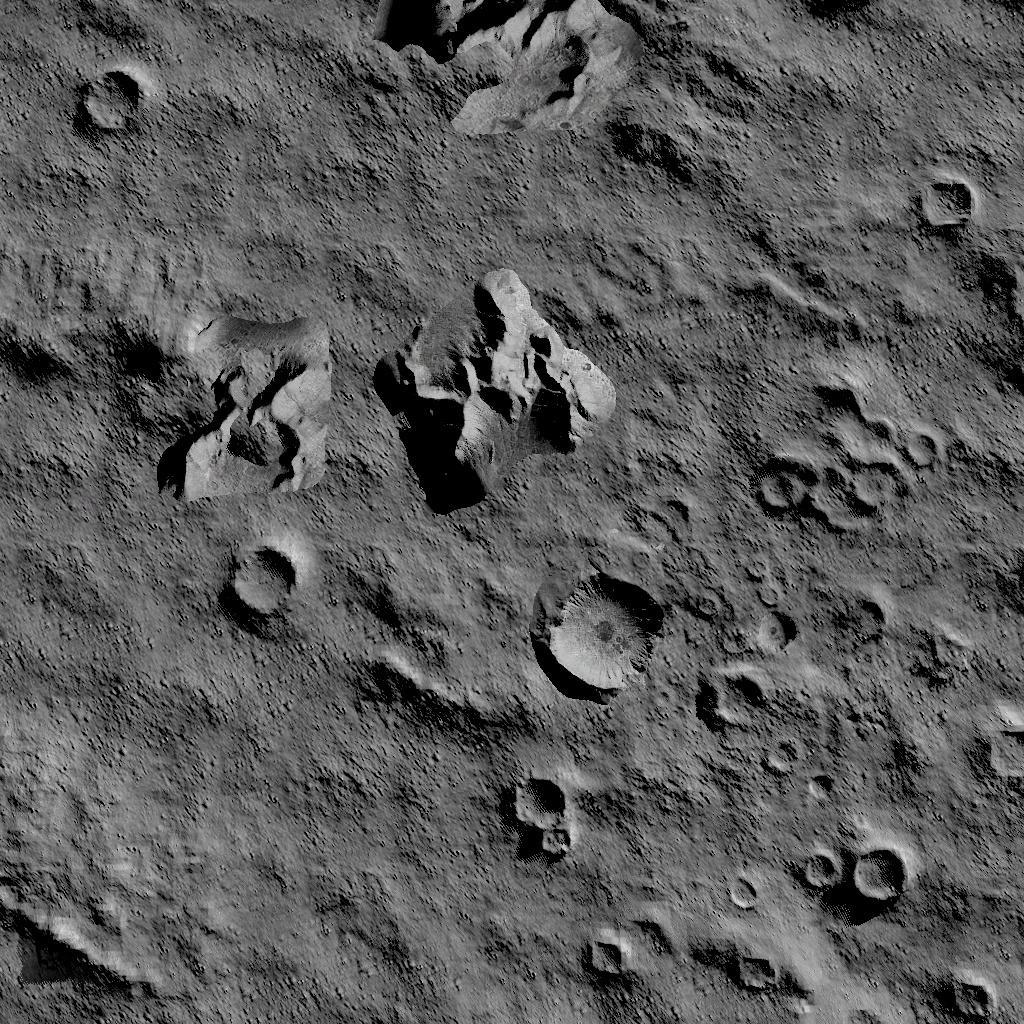Boulders: (370, 264, 620, 516), (118, 322, 332, 511), (363, 0, 639, 142)
Crater: (743, 392, 919, 538), (534, 575, 663, 700), (222, 547, 301, 628), (498, 783, 570, 871), (798, 846, 904, 903), (68, 74, 146, 140), (686, 676, 760, 736), (915, 178, 980, 238), (964, 729, 1024, 790), (719, 950, 778, 998), (938, 980, 996, 1020), (577, 938, 624, 986), (980, 554, 1024, 604), (749, 617, 794, 665), (746, 746, 789, 776), (718, 880, 758, 912), (797, 778, 829, 804)
Plan surface: (3, 752, 475, 932), (155, 0, 349, 312), (677, 44, 1024, 172), (3, 526, 191, 744)
